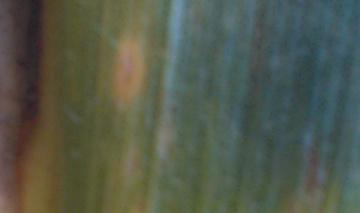tarspot: (23, 1, 42, 117)
